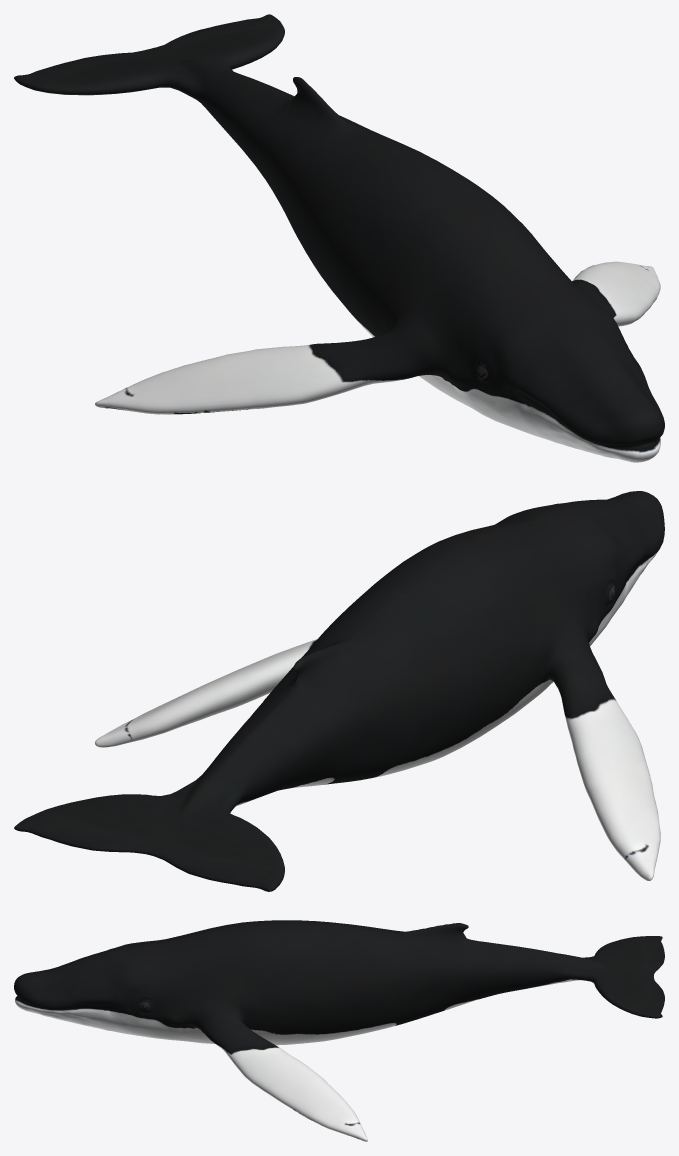
The model's file is whale4_clean.glb.
3 renders of one model, top to bottom at view 1: azimuth 30°, elevation 25°; view 2: azimuth 150°, elevation 25°; view 3: azimuth 270°, elevation 25°, orthographic. The views are drawn at different scales.
Visible parts, largest first — view 1: model; view 2: model; view 3: model.
Part boxes in pixels (x1,y1,x2,y2): model: (14,14,664,462); model: (14,491,664,891); model: (14,920,664,1141).
Bounding box in the file's own units: 1.2 × 0.4288 × 1.9.
Materials: 1 (1 with a texture image).
